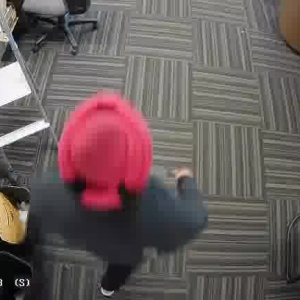person: (29, 97, 198, 282)
